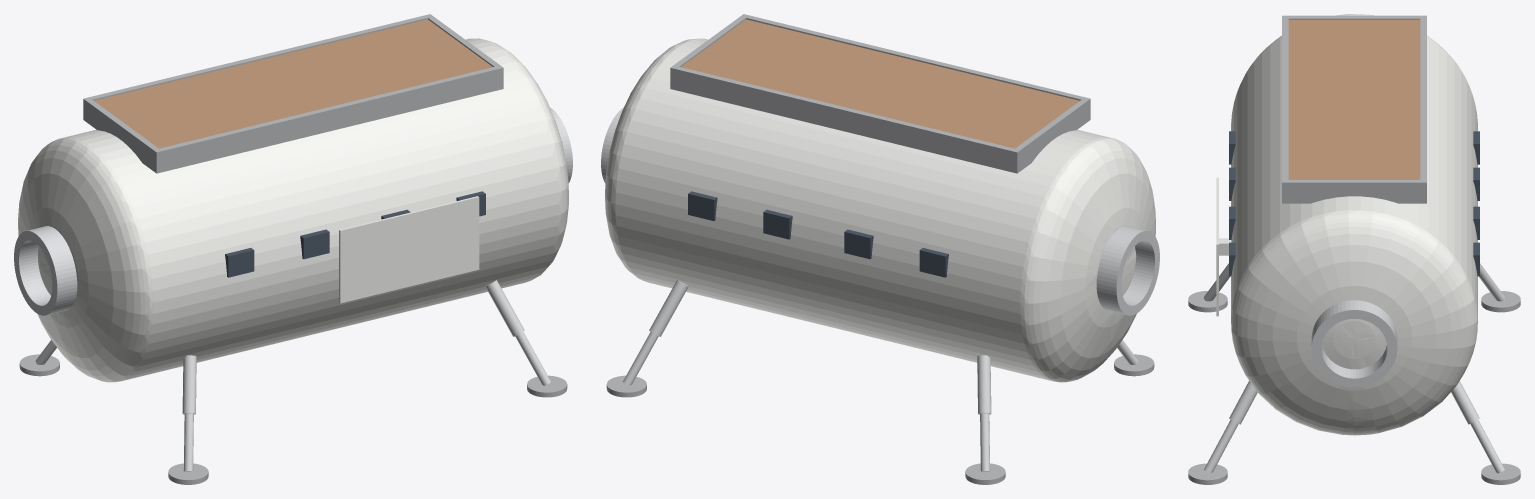
The model's file is rover10_surface_hab.glb.
The picture shows the model from 3 angles, left to right: view 1: azimuth 30°, elevation 25°; view 2: azimuth 150°, elevation 25°; view 3: azimuth 270°, elevation 25°; orthographic projection.
Visible parts, largest first — view 1: hull, regolith_fill, shield_tray, radiator, hatch_collars, leveling_legs, foot_pads, windows; view 2: hull, regolith_fill, shield_tray, hatch_collars, leveling_legs, windows, foot_pads; view 3: hull, regolith_fill, shield_tray, hatch_collars, leveling_legs, foot_pads, windows, radiator.
Part boxes in pixels (box(x1,y1,x2,y2)): hull: box(18, 38, 568, 382); regolith_fill: box(94, 19, 492, 148); shield_tray: box(83, 14, 503, 173); radiator: box(339, 196, 479, 303); hatch_collars: box(14, 107, 572, 315); leveling_legs: box(35, 280, 550, 471); foot_pads: box(19, 354, 567, 484); windows: box(225, 191, 485, 277); hull: box(605, 38, 1155, 382); regolith_fill: box(681, 19, 1079, 148); shield_tray: box(670, 14, 1090, 173); hatch_collars: box(601, 107, 1159, 315); leveling_legs: box(623, 280, 1138, 471); windows: box(688, 191, 948, 277); foot_pads: box(606, 354, 1154, 484); hull: box(1231, 14, 1477, 435); regolith_fill: box(1288, 20, 1420, 179); shield_tray: box(1282, 15, 1426, 203); hatch_collars: box(1311, 300, 1397, 387); leveling_legs: box(1204, 263, 1504, 473); foot_pads: box(1188, 291, 1520, 484); windows: box(1229, 131, 1479, 276); radiator: box(1216, 177, 1231, 316).
Bounding box in the file's own units: 8.91 × 4.88 × 5.05.
